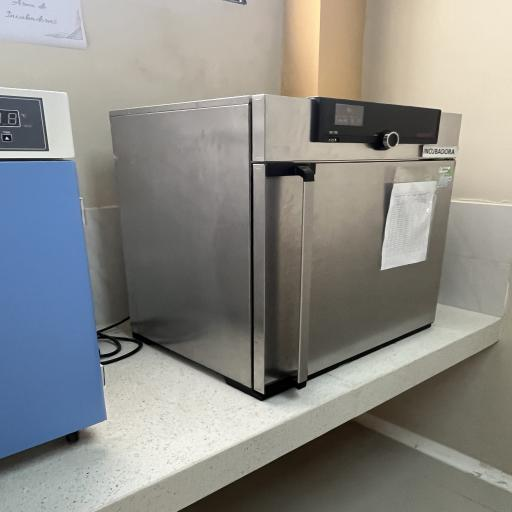Incubadora: (99, 86, 467, 406)
